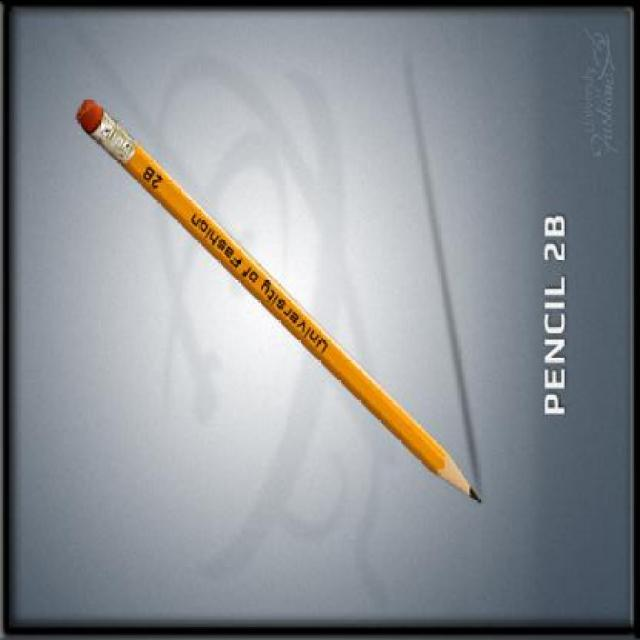Pencil: (417, 436, 488, 510)
